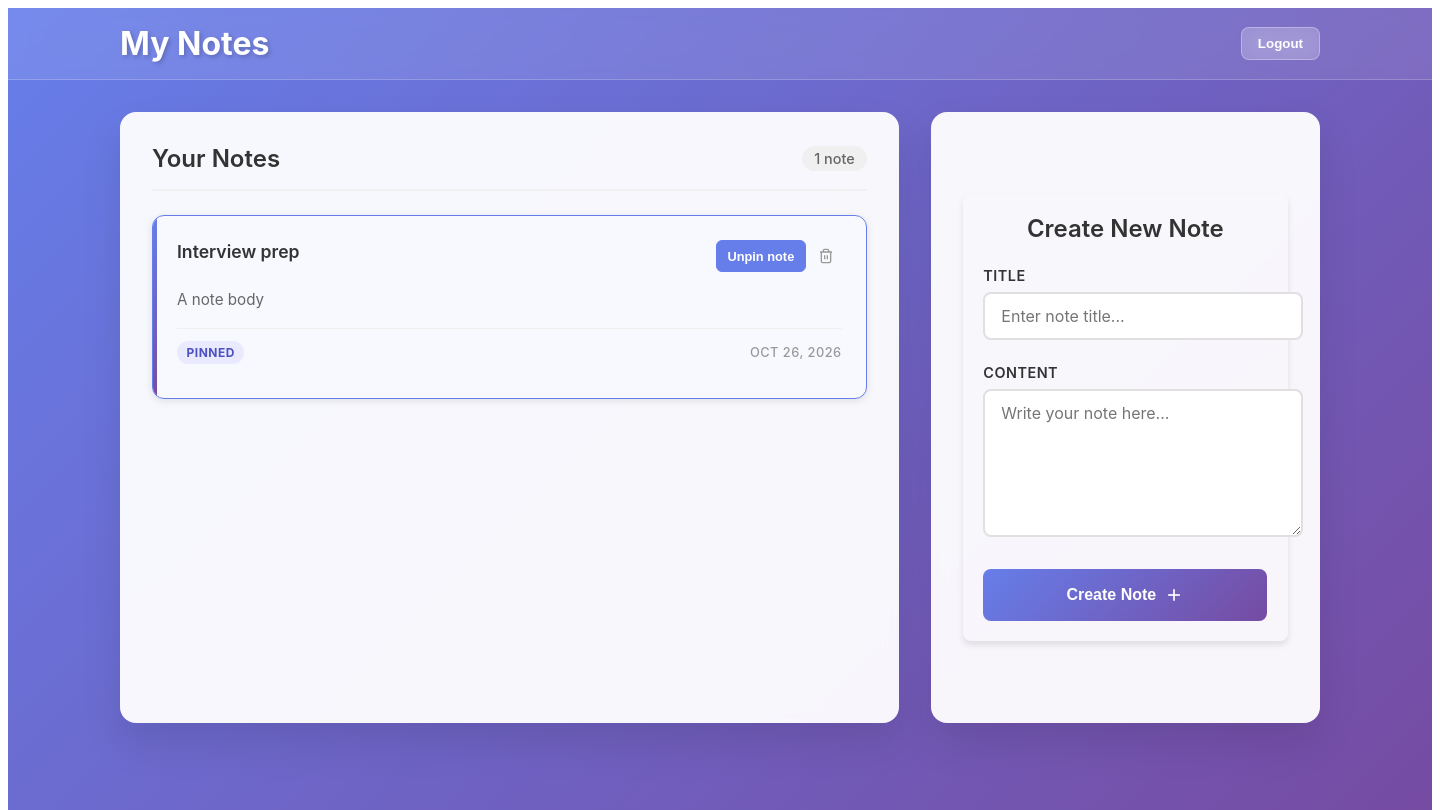
Test: Home note pinning › can unpin a pinned note after a successful response
The image size is (1440, 810).
Click the button "Unpin note": {"x": 761, "y": 256} [716,240,806,272]
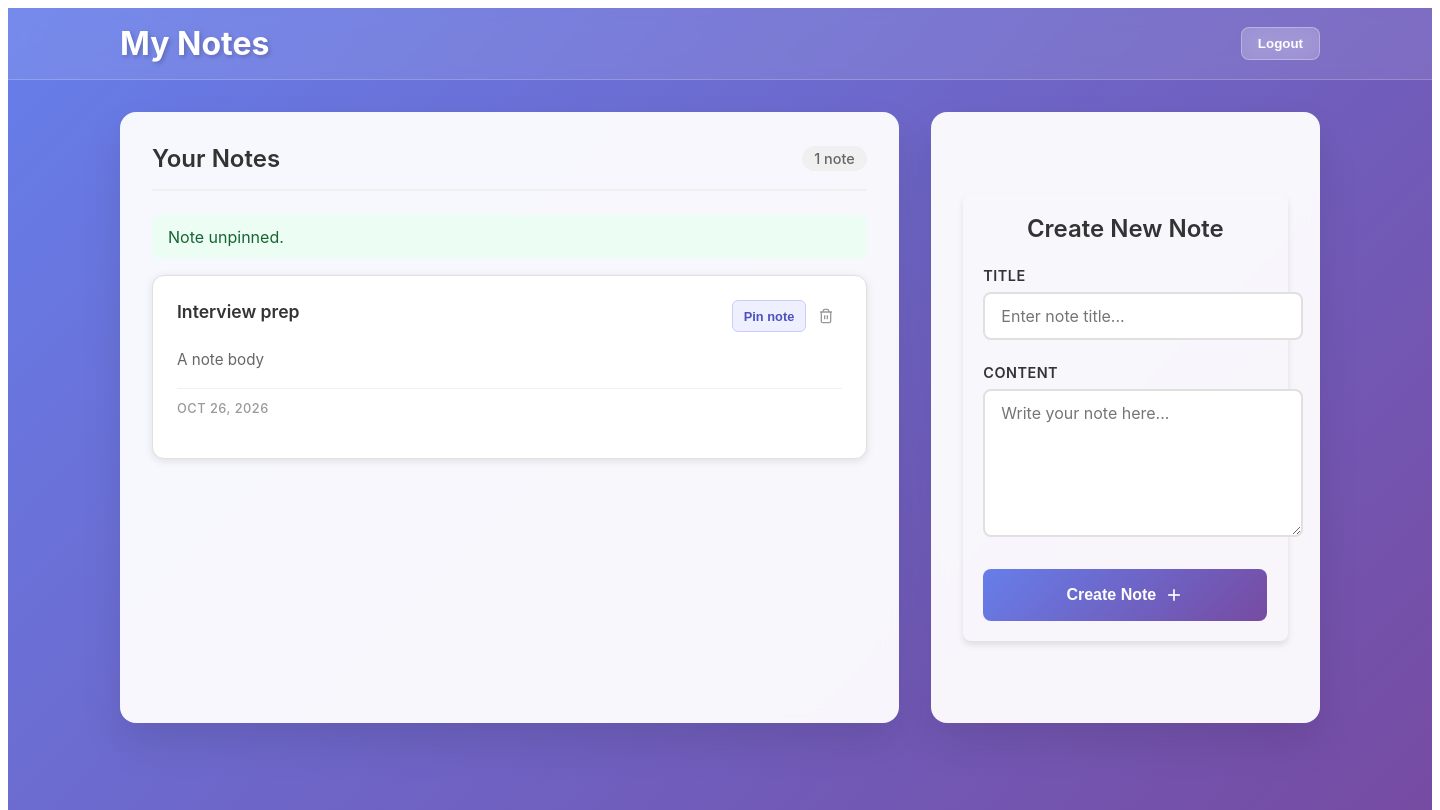
Expected: the button "Pin note" is shown, [732,300,806,332]
Expected: the message reads "Note unpinned.", [168,227,284,247]
